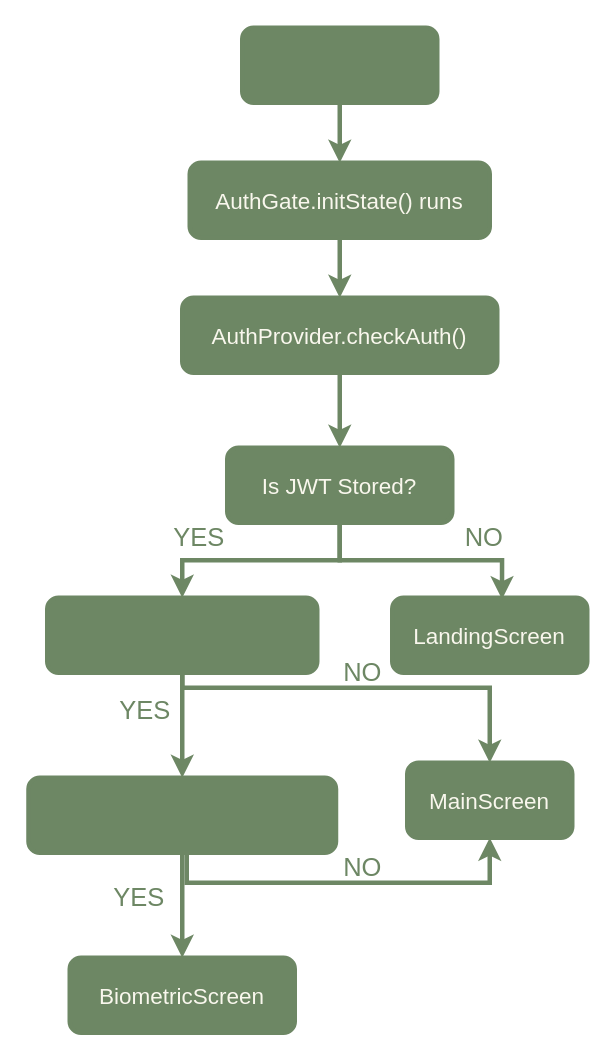
Image size: 615x1061. Some labels were removed from this diagram. The centre of each missing label's shape, as x and y in pixels:
"App Launches" goes at (339,64).
"Has 15 minutes passed?" goes at (182,814).
"Is biometric enabled?" goes at (181,634).
